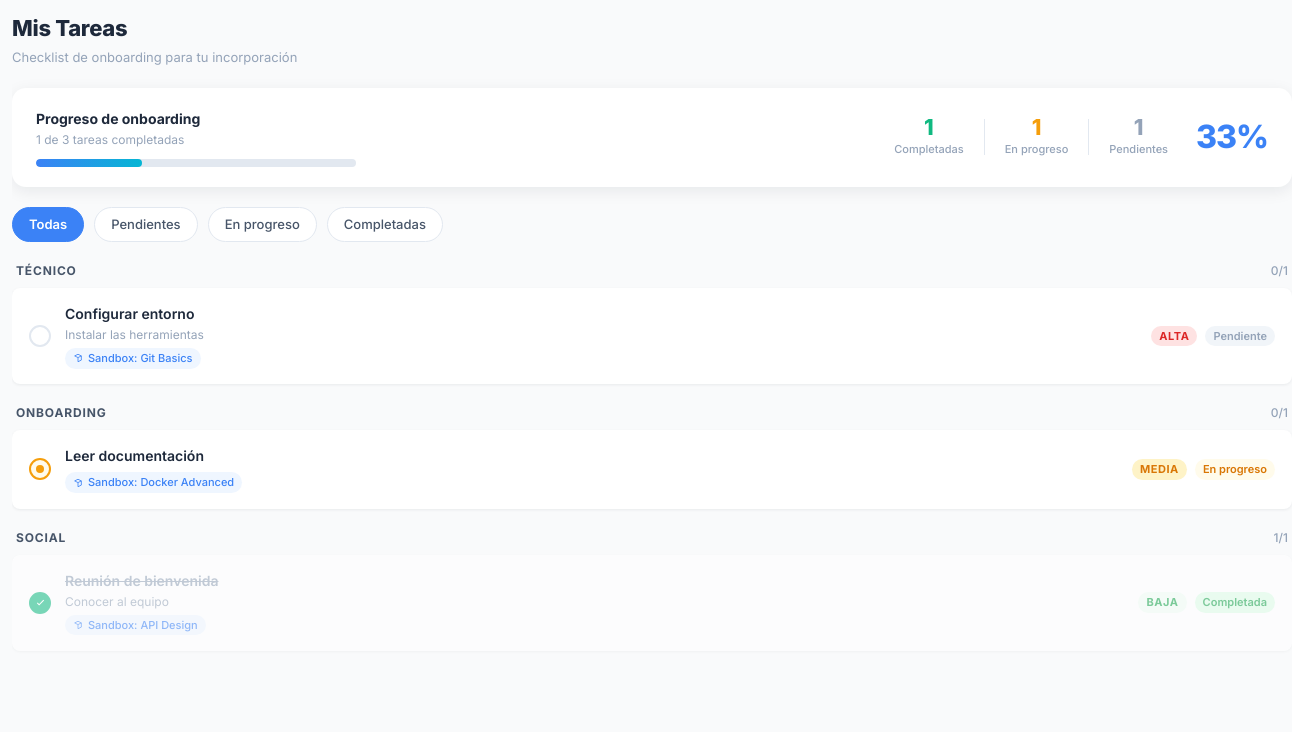
it: Tasks › filtra para mostrar solo tareas en progreso
Expected: the text "Leer documentación" is shown, [65, 447, 204, 464]
Step 1. Click the button "En progreso" → (262, 224), box [208, 206, 317, 242]
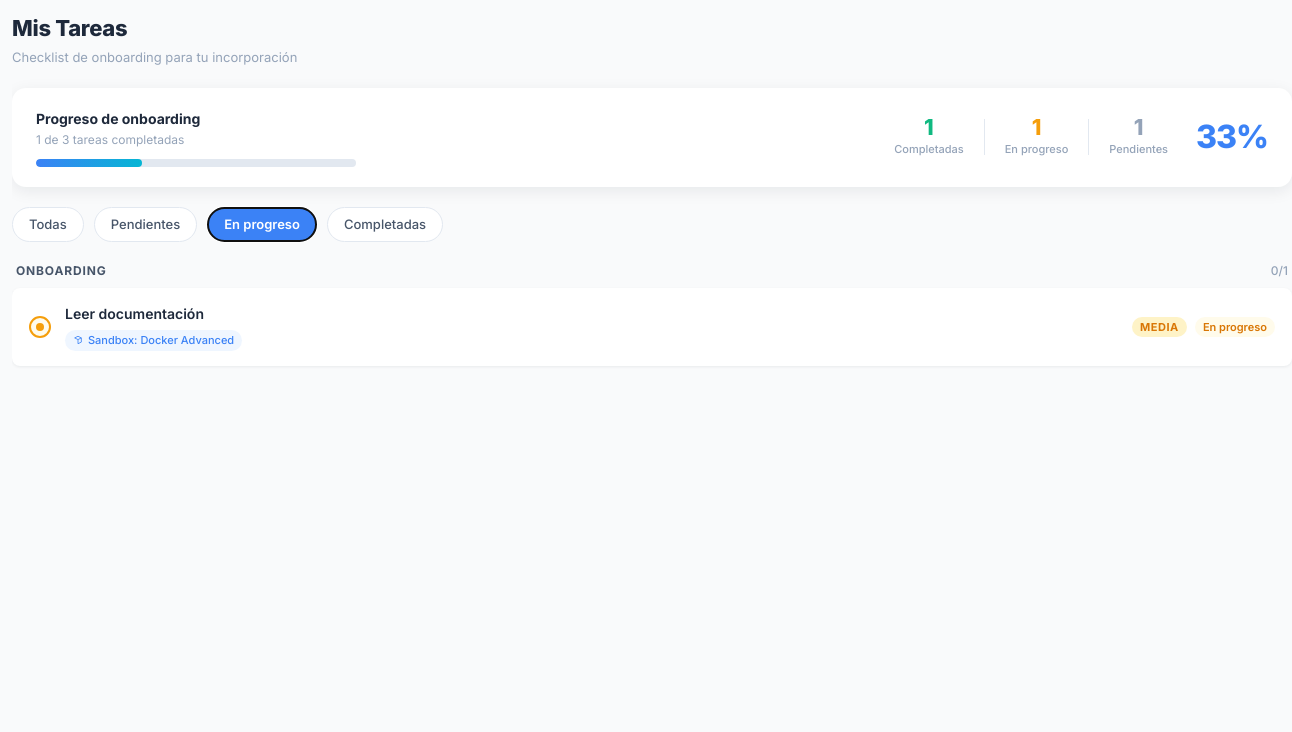
Expected: the text "Leer documentación" is shown, [65, 305, 204, 322]
Now the text "Configurar entorno" is gone
Now the text "Reunión de bienvenida" is gone
